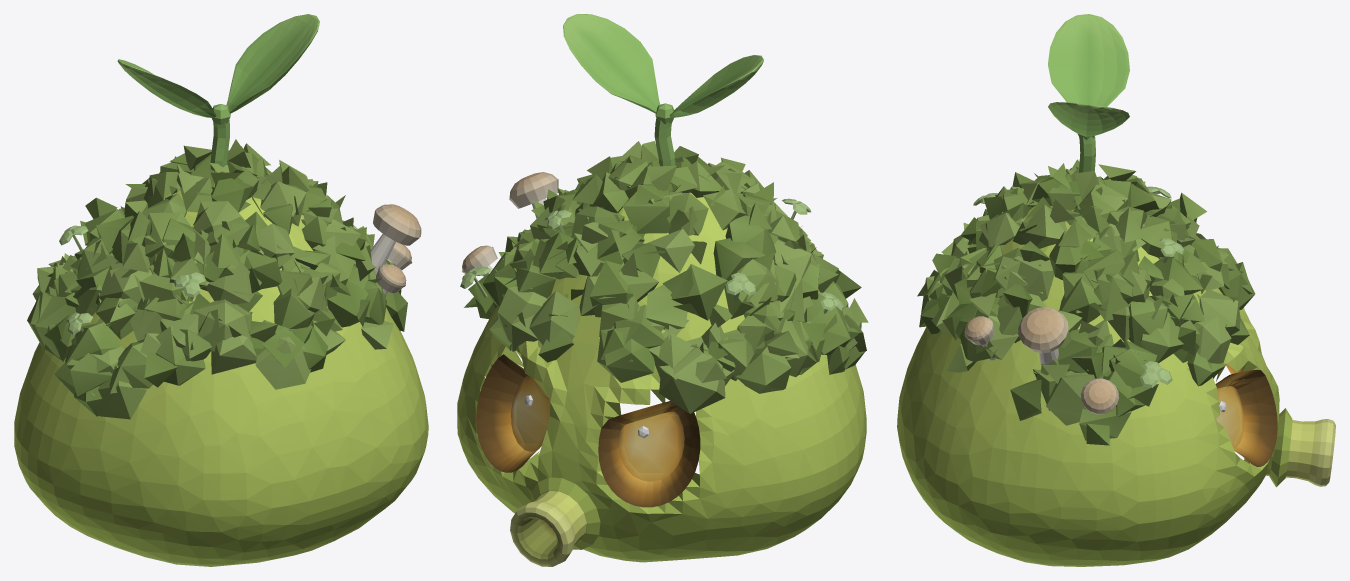
The model's file is sprout_spitter_roblox.glb.
3 views of the same model, side by side, from view 1: azimuth 30°, elevation 25°; view 2: azimuth 150°, elevation 25°; view 3: azimuth 270°, elevation 25° (orthographic). The views are drawn at different scales.
Visible parts, largest first — view 1: Decor, Body; view 2: Decor, Body, Eyes; view 3: Decor, Body, Eyes.
Boxes of the visible parts, x1,y1,x2,y2 form: Decor: (27,14,421,419); Body: (14,188,428,566); Decor: (460,14,868,566); Body: (457,192,866,562); Eyes: (476,354,700,507); Decor: (917,14,1335,487); Body: (897,206,1279,566); Eyes: (1215,364,1277,466).
Bounding box in the file's own units: 1.17 × 1.43 × 1.22.
